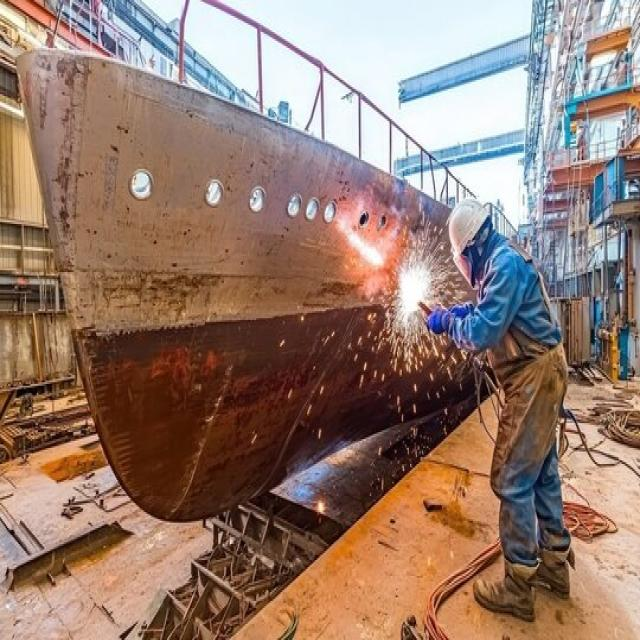welding: (402, 267, 430, 310)
